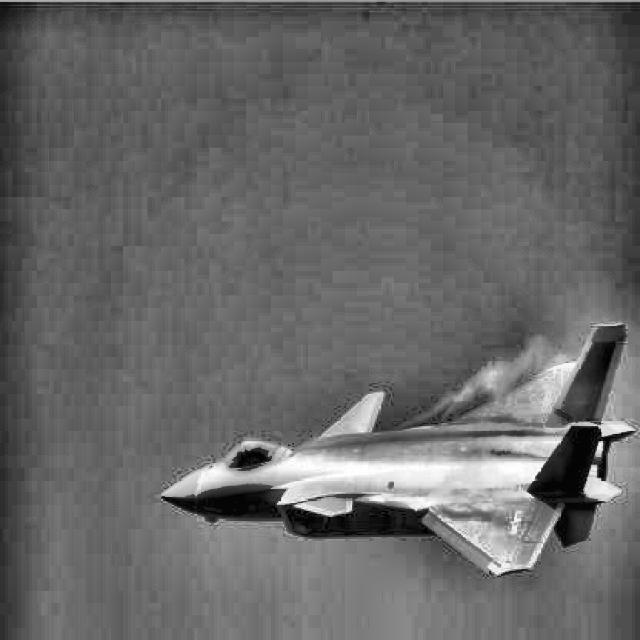J20: (158, 324, 636, 578)
